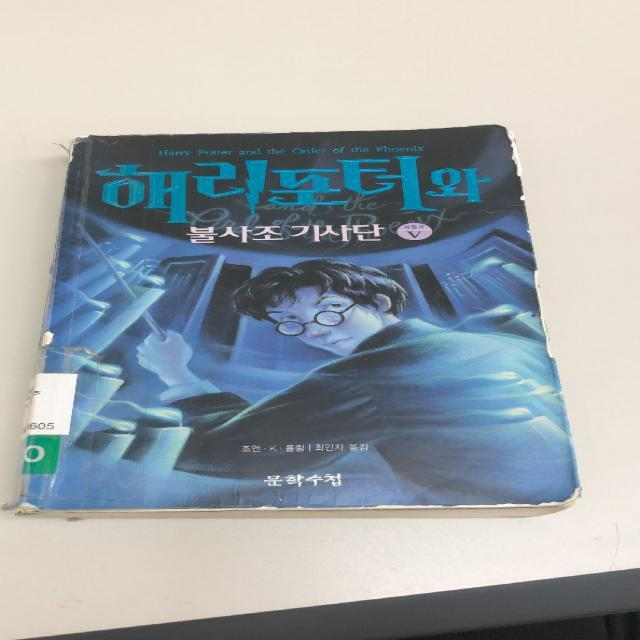Ripped: (50, 132, 88, 167), (0, 497, 63, 518)
Wornout: (312, 496, 535, 513), (527, 266, 559, 360), (65, 501, 246, 517), (490, 121, 529, 178), (40, 232, 62, 329), (535, 482, 589, 512), (91, 129, 204, 140), (247, 498, 310, 514), (205, 128, 295, 139), (35, 329, 62, 348), (517, 222, 541, 239), (511, 191, 532, 209)
